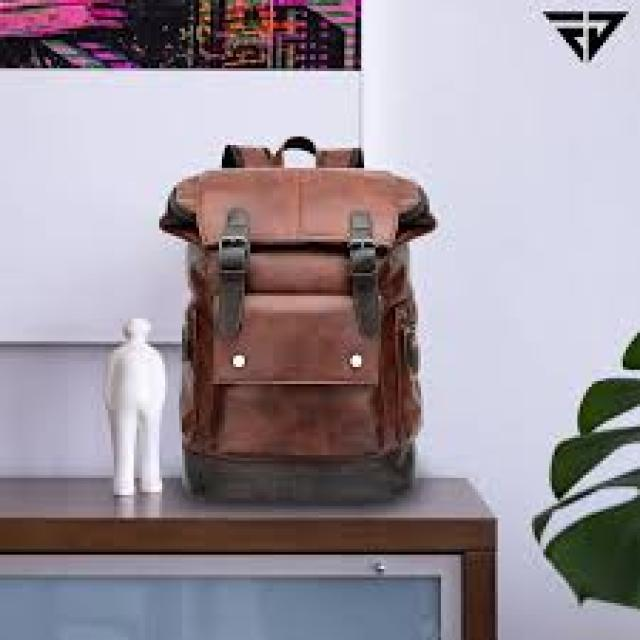backpack: (158, 135, 437, 505)
